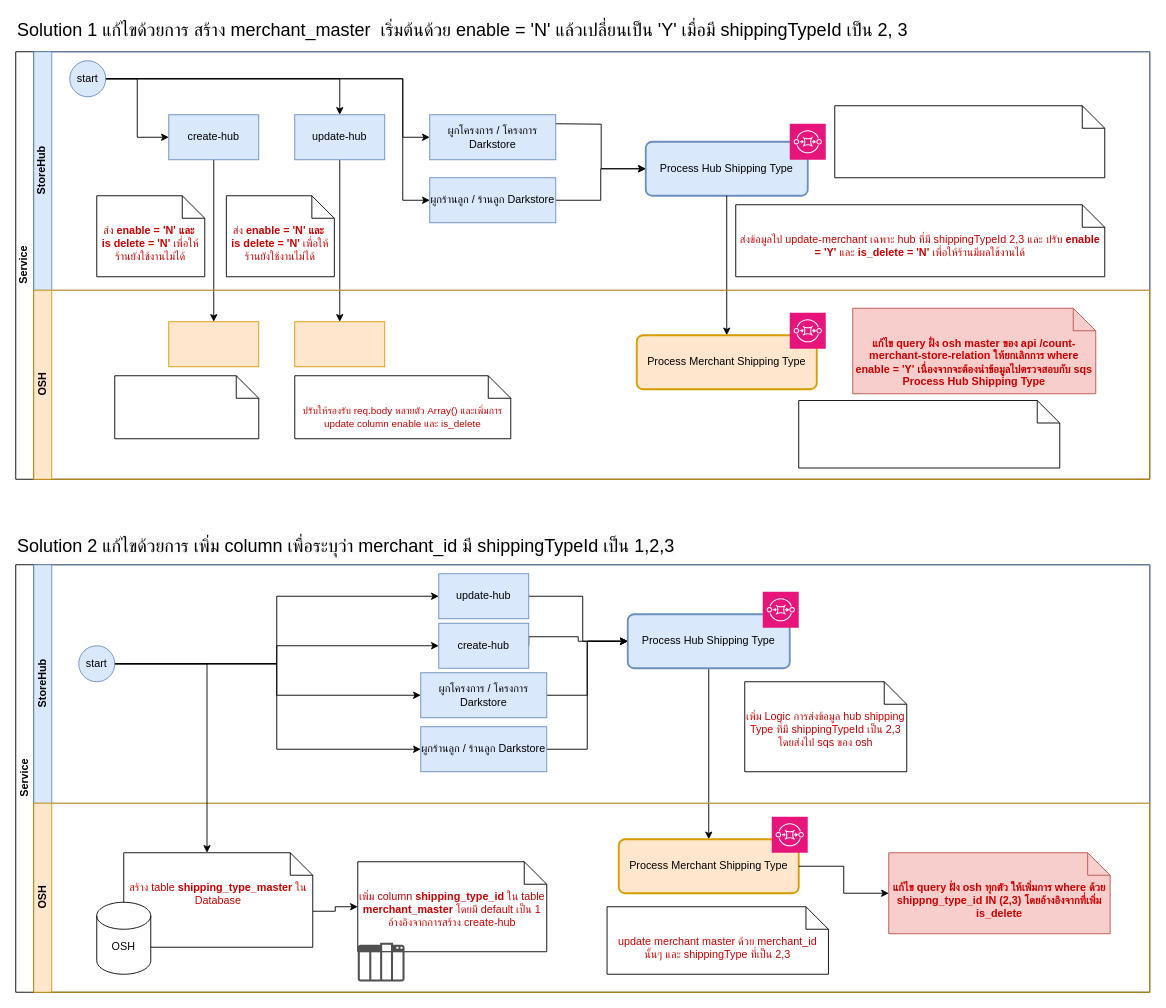
Image size: 1166x1008. Some labels were removed from this diagram. Here are the shapes that lost their labels. From the top down, the centre of each, then its label:
At [969,141]: "เพิ่ม Logic การส่งข้อมูล hub master ที่มี shippingTypeId เป็น 2,3 โดยส่งไป sqs".
At [213,344]: "create-merchant".
At [339,344]: "update-merchant".
At [186,407]: "เพิ่มการ insert column enable และ is_delete".
At [929,434]: "update ข้อมูล merchant_master ให้ enable = 'Y' และ is_delete = 'N'".
